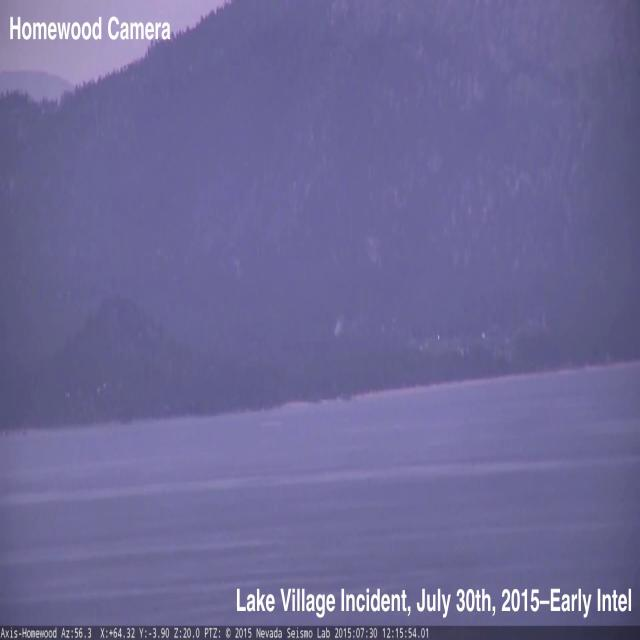smoke: (331, 309, 348, 335)
